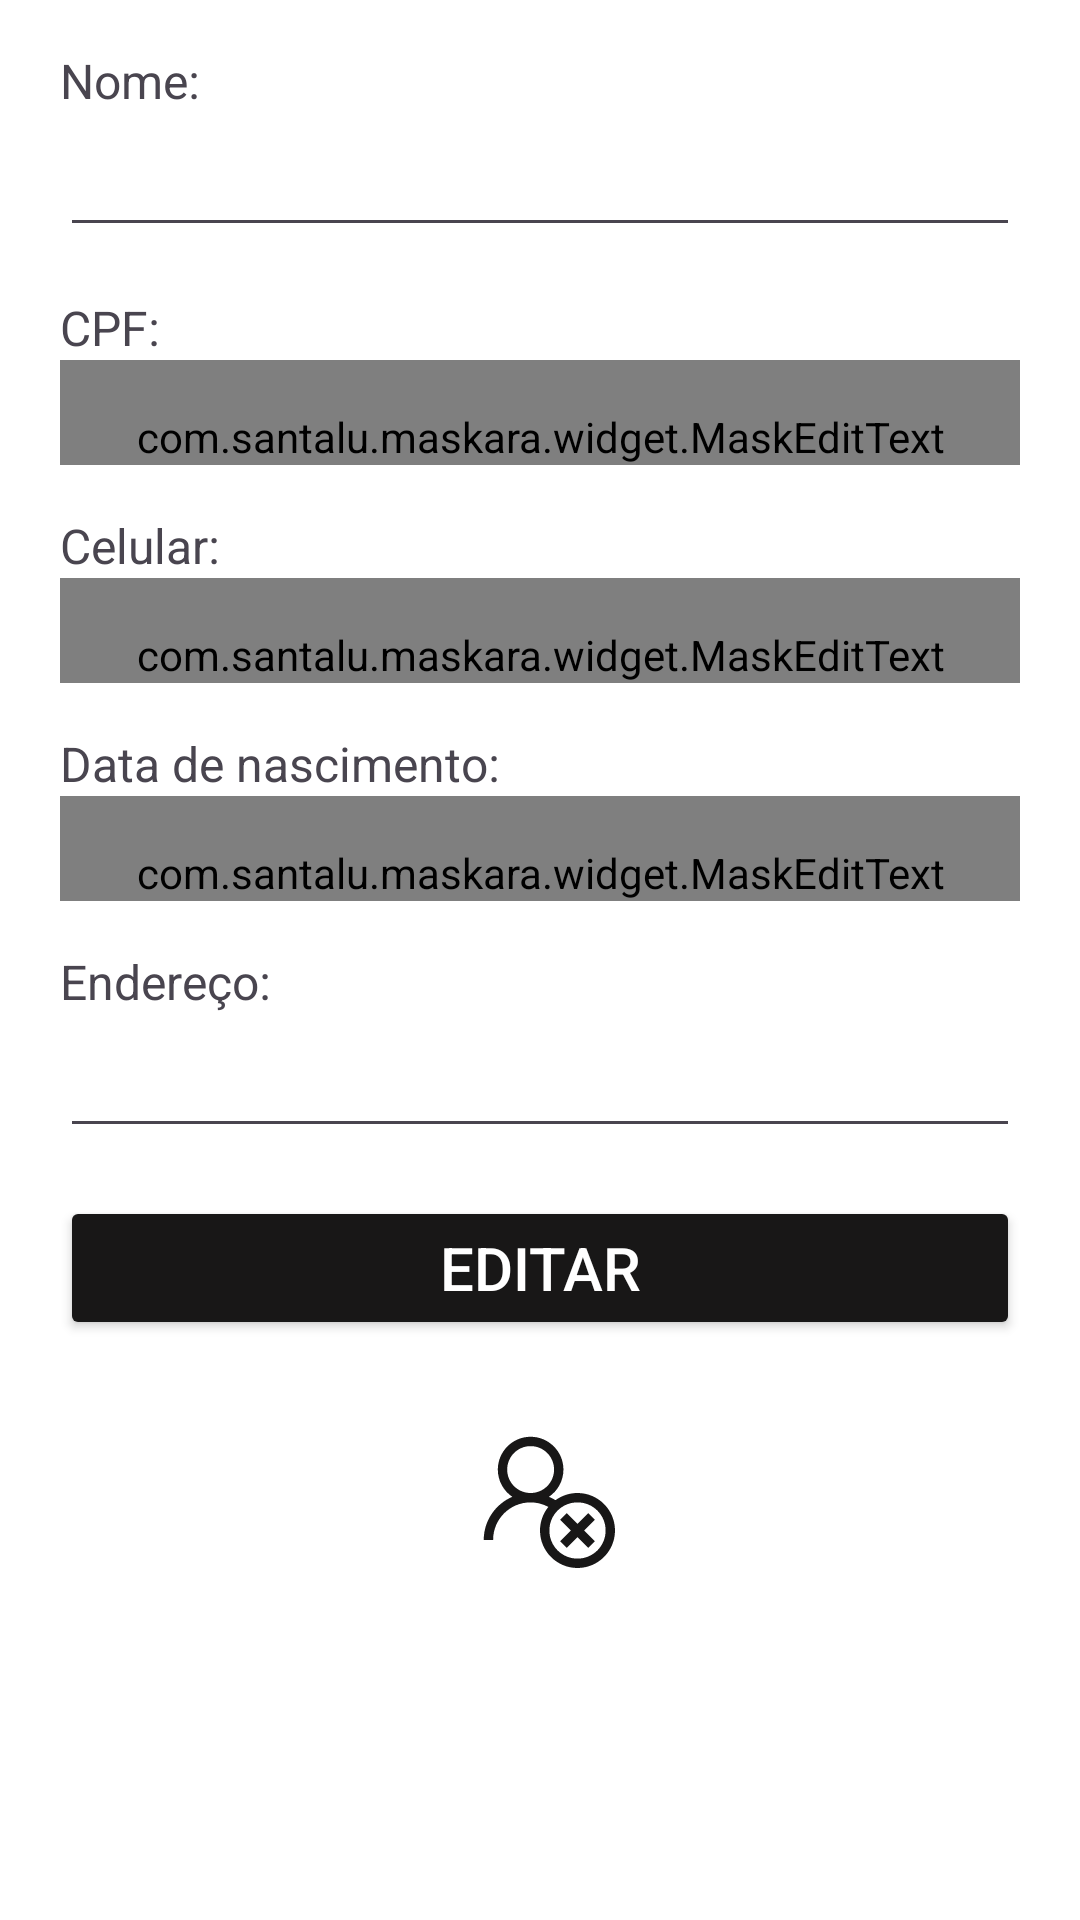

Named icons in this screenshot (1080×1920) and their bounding boxes, box=[x1, y1, x2, y2]:
remove user: box=[483, 1436, 615, 1568]
